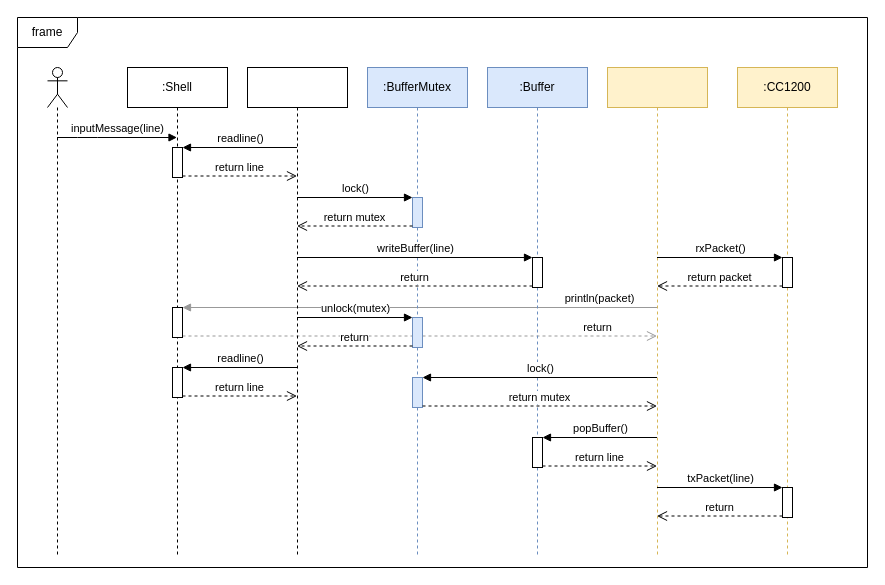
This 885x585 diagram has some shape labels left out. Each missing label, with the box of its shape:
:CCThread: (606, 66, 708, 558)
:MainThread: (246, 66, 348, 558)
